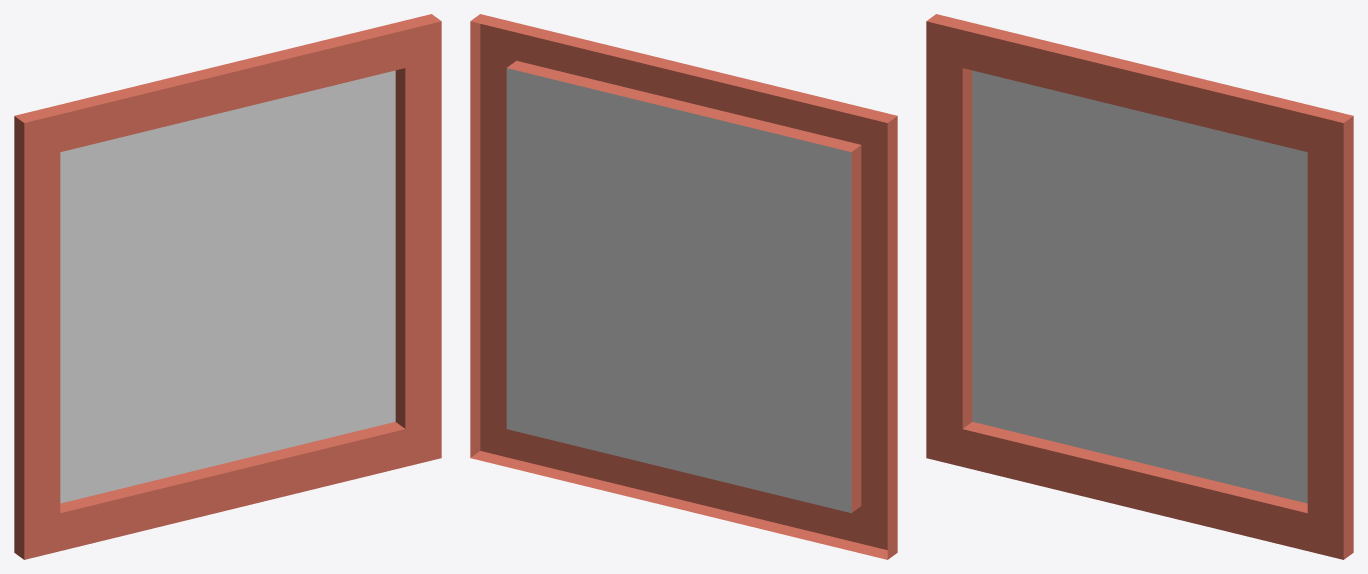
File: Mural.fbx
3 views of the same model, side by side, from view 1: azimuth 30°, elevation 25°; view 2: azimuth 150°, elevation 25°; view 3: azimuth 330°, elevation 25° (orthographic).
Parts seen in each view (by area): view 1: Mural; view 2: Mural; view 3: Mural.
Part boxes in pixels (<box>): Mural: <box>14,14,441,559</box>; Mural: <box>470,14,897,559</box>; Mural: <box>926,14,1353,559</box>.
Size of the model in its own units: 242 by 242 by 10.
